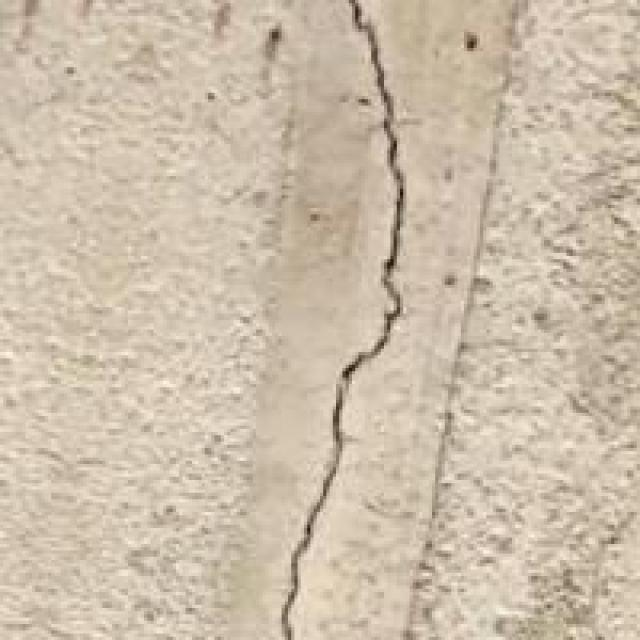Crack: (256, 0, 474, 637)
